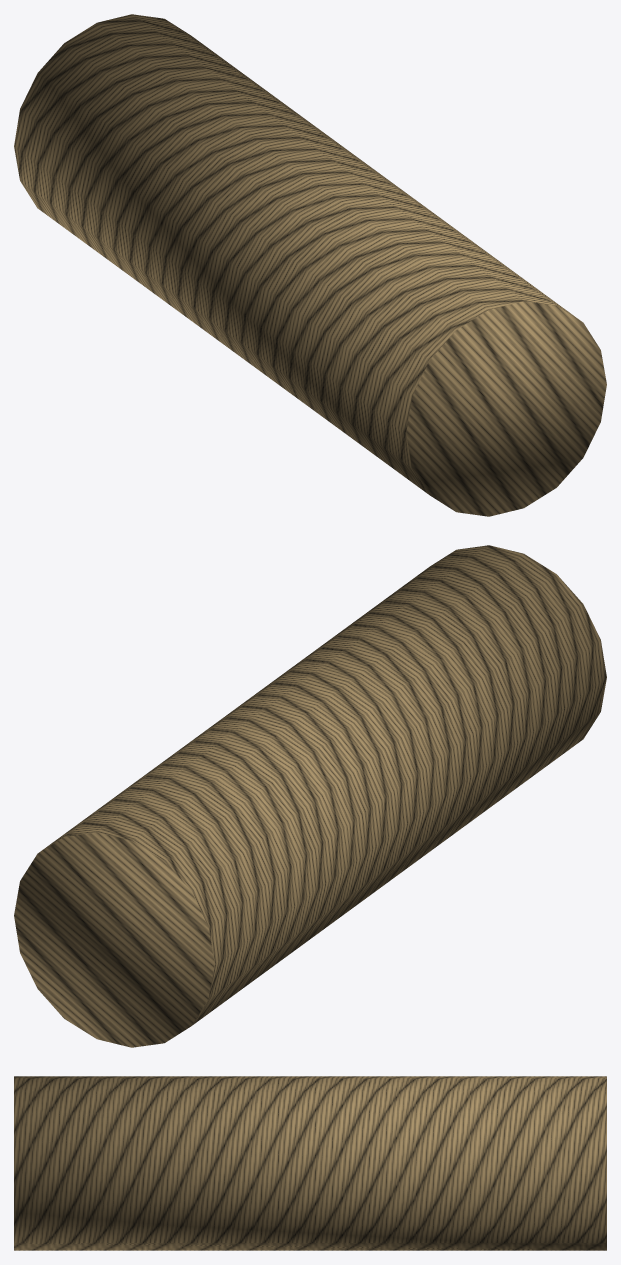
File: cat-shelf.fbx
The picture shows the model from 3 angles, top to bottom: view 1: azimuth 30°, elevation 25°; view 2: azimuth 150°, elevation 25°; view 3: azimuth 270°, elevation 25°; orthographic projection. The views are drawn at different scales.
Parts seen in each view (by area): view 1: Object001.001; view 2: Object001.001; view 3: Object001.001.
Part boxes in pixels (x1=…): Object001.001: x1=14, y1=14, x2=606, y2=516; Object001.001: x1=14, y1=545, x2=606, y2=1047; Object001.001: x1=14, y1=1076, x2=606, y2=1250.
Bounding box in the file's own units: 22.07 × 21.73 × 74.64.
1 material, 1 textured.
